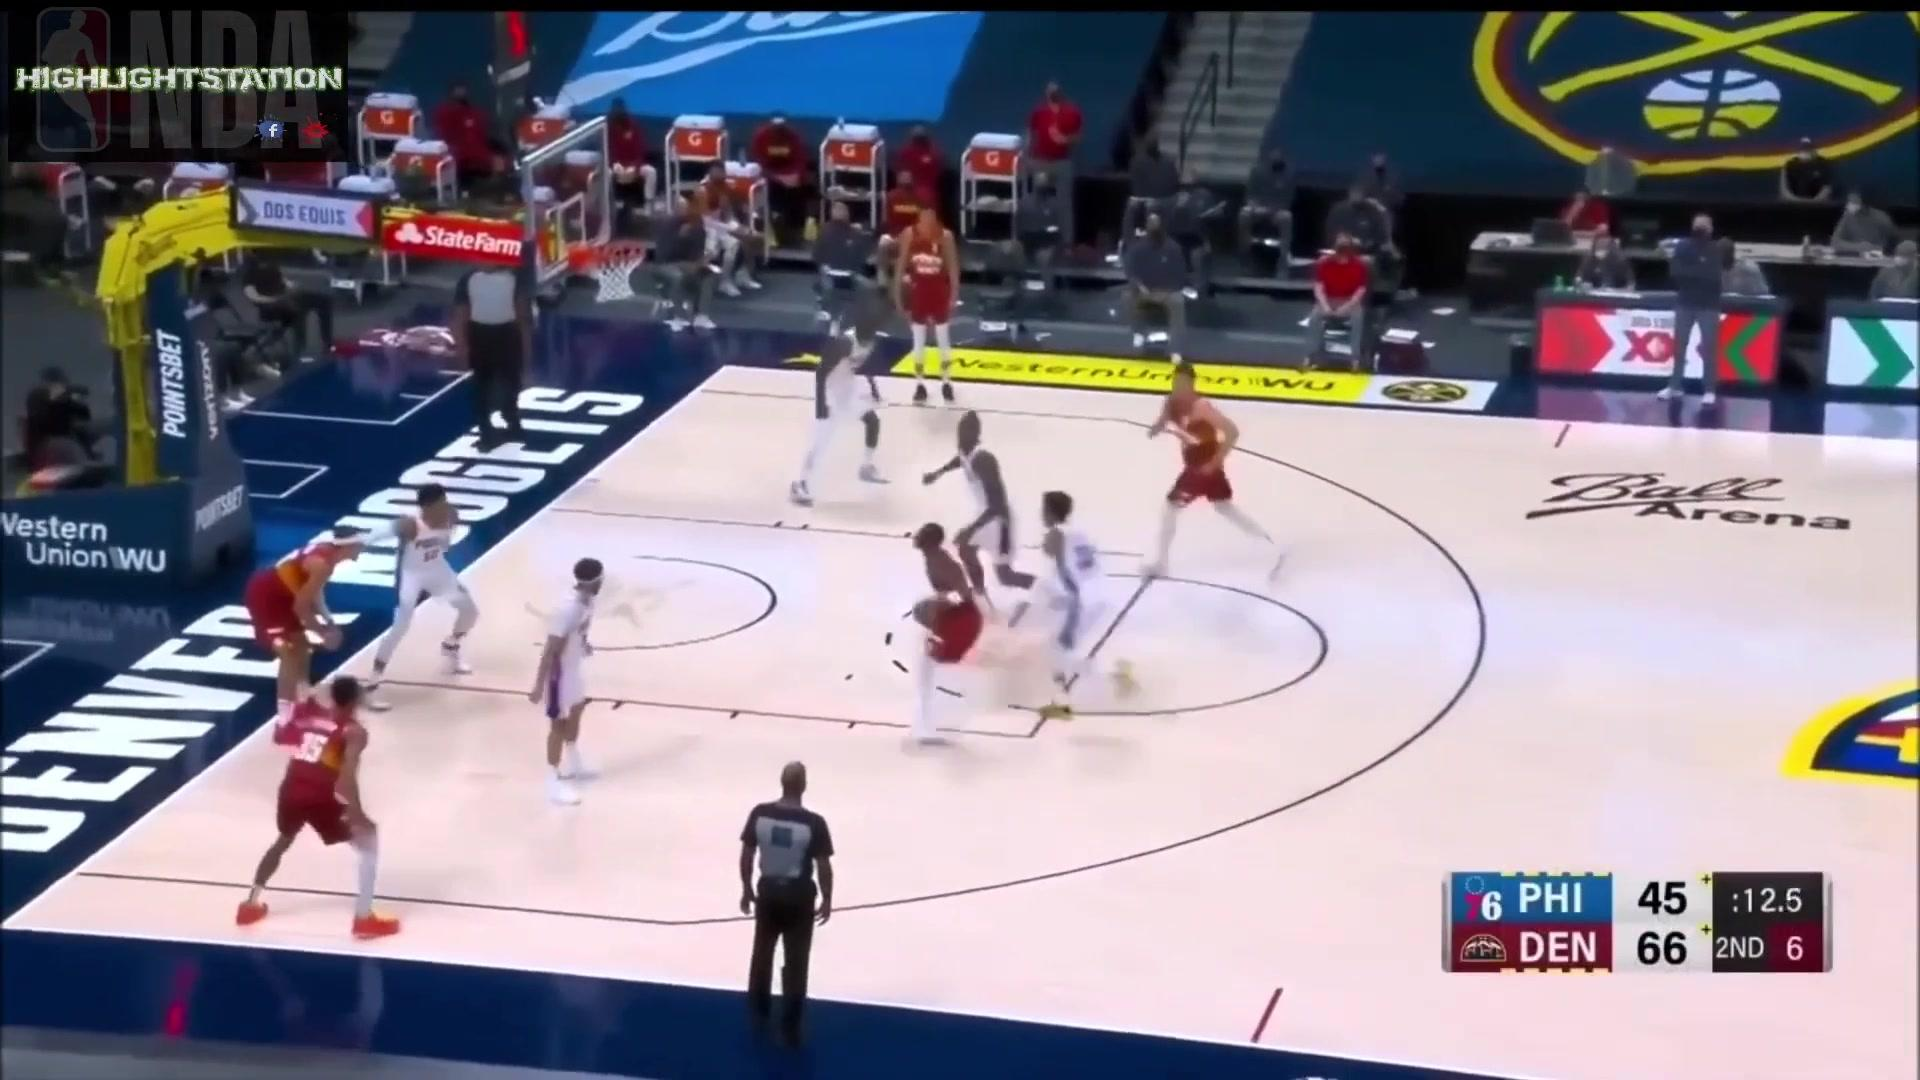no_foul: (889, 477, 1142, 754)
